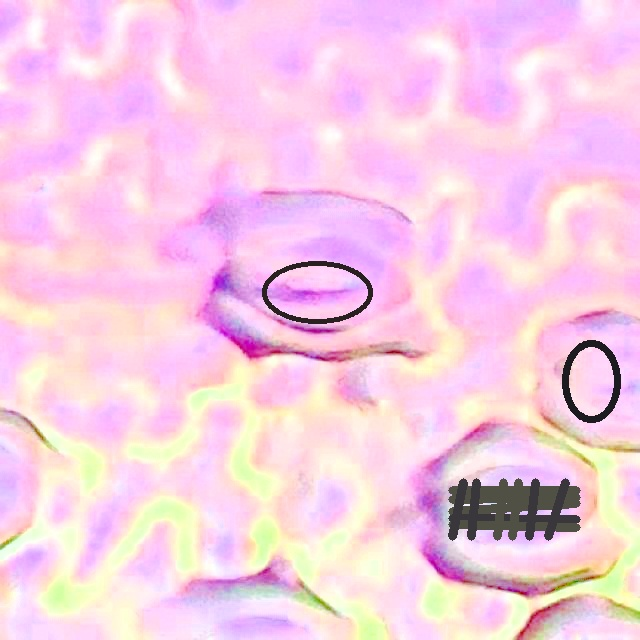close: (448, 478, 580, 539), (561, 339, 621, 423)
open: (260, 259, 373, 324)
